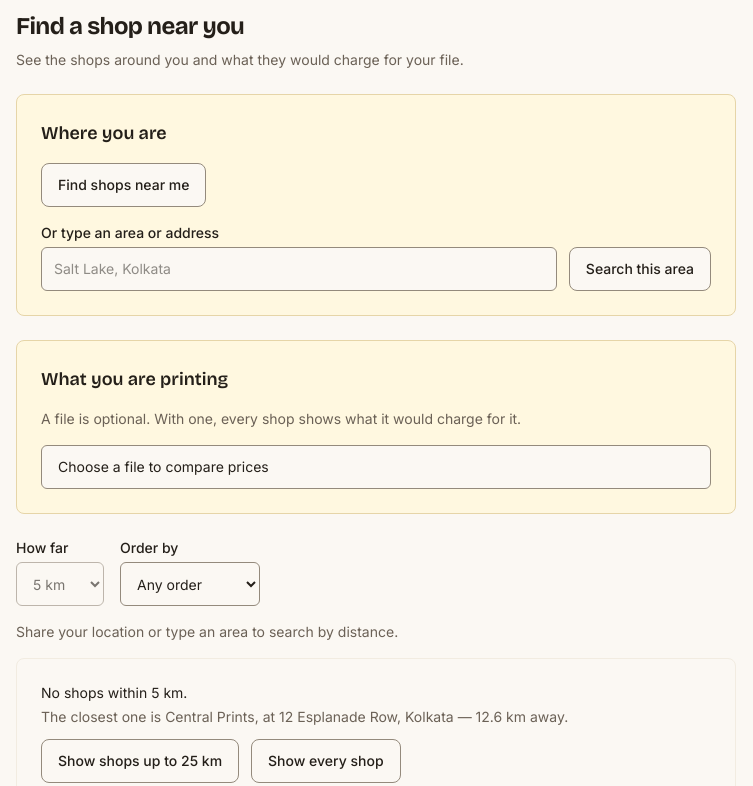
the shop search › says how far the closest shop is when the radius is empty
The image size is (753, 786).
Expected: the text "No shops within 5 km." is shown, x1=41 y1=684 x2=187 y2=701
Expected: the text "closest one is Central Prints" shows "at 12 Esplanade Row", x1=41 y1=708 x2=568 y2=725
Click the button "Show shops up to 25 km" at (140, 761), box x1=41 y1=739 x2=239 y2=783
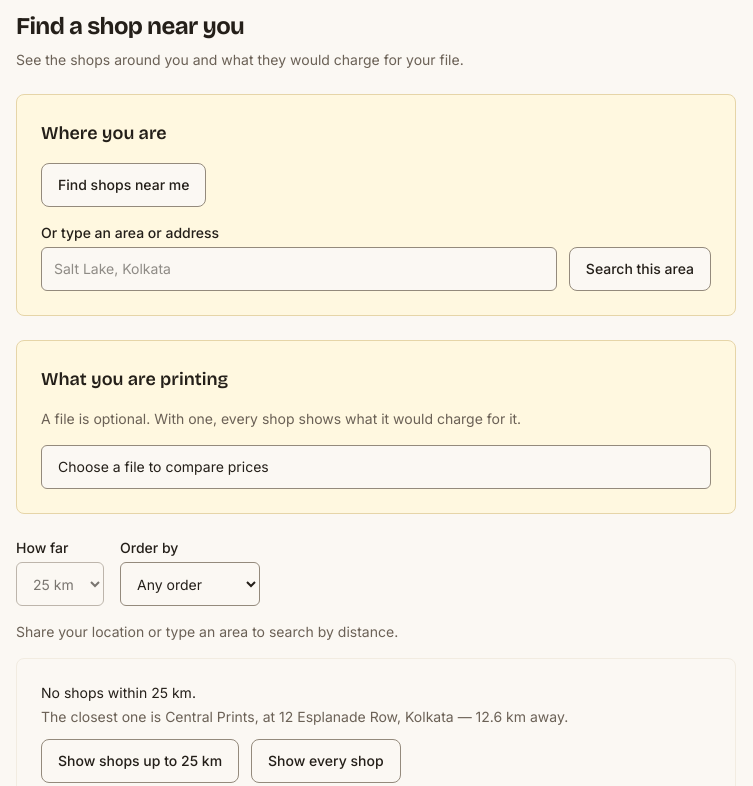
Expected: the dropdown labelled "How far" shows "25 km", x1=16 y1=562 x2=104 y2=606
